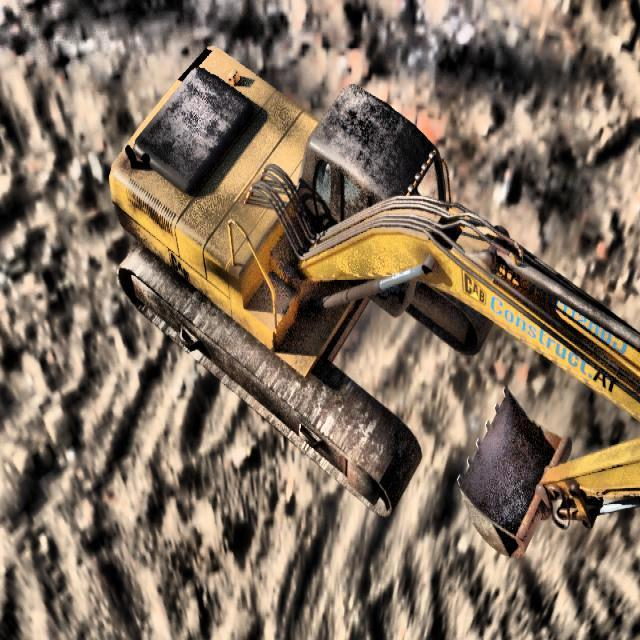excavator: (108, 46, 640, 558)
